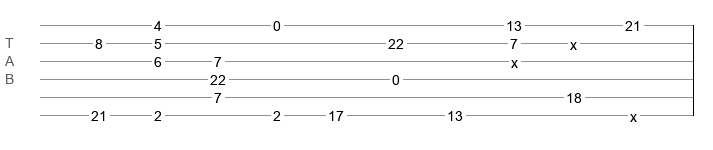0: (273, 18, 281, 28), (392, 72, 400, 82)
13: (447, 108, 463, 118), (506, 18, 522, 28)
17: (328, 108, 344, 118)
18: (566, 90, 582, 100)
2: (154, 108, 162, 118), (273, 108, 281, 118)
21: (91, 108, 107, 118), (625, 18, 641, 28)
22: (210, 72, 226, 82), (388, 36, 404, 46)
4: (154, 18, 162, 28)
5: (154, 36, 162, 46)
6: (154, 54, 162, 64)
7: (214, 90, 222, 100), (214, 54, 222, 64), (510, 36, 518, 46)
8: (95, 36, 103, 46)
x: (511, 55, 518, 63), (570, 37, 577, 45), (630, 109, 637, 117)
